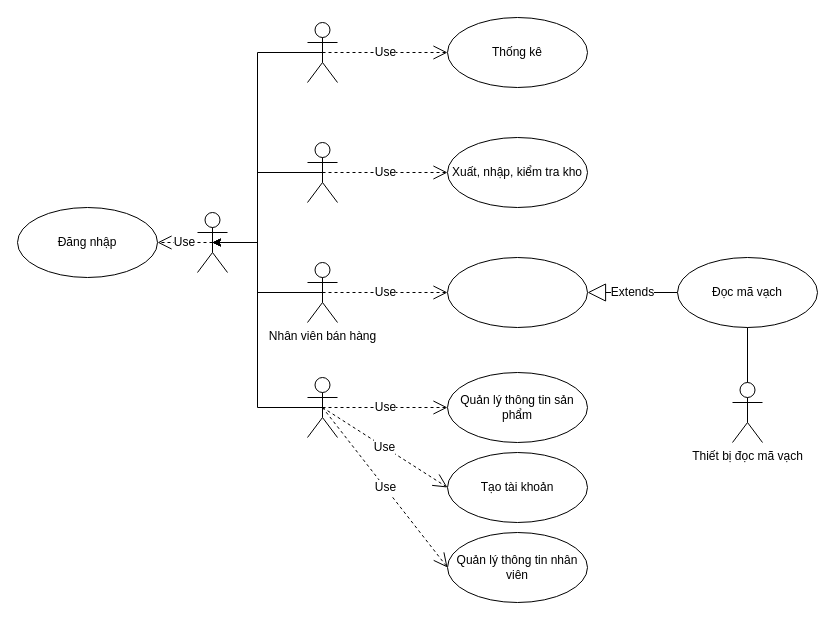
Some shapes in this 835 by 620 pixel diagram are drawn without their labels. The shapes that lost their labels are listed below. From the top down, each one's centre as x and y in pixels, then its label:
At point 322,52: "Nhân viên kế toán".
At point 322,172: "Nhân viên kho".
At point 212,242: "Người dùng".
At point 517,292: "Thanh toán".
At point 322,407: "Quản lý".
